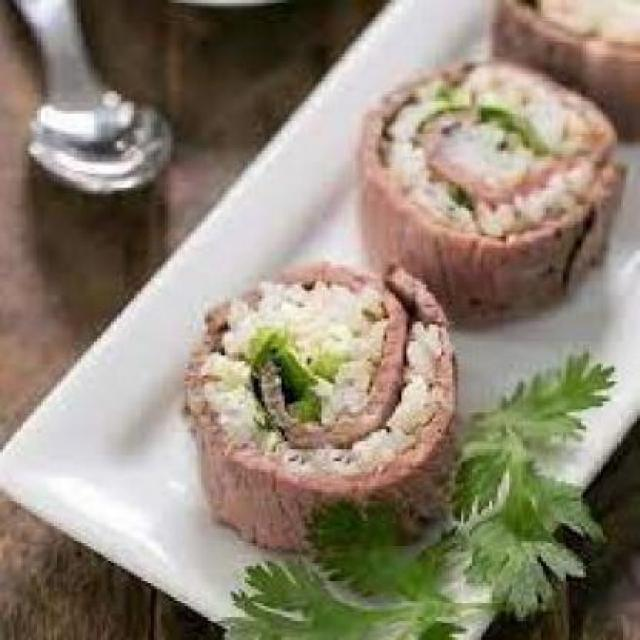steak: (339, 136, 626, 307), (191, 424, 475, 548)
